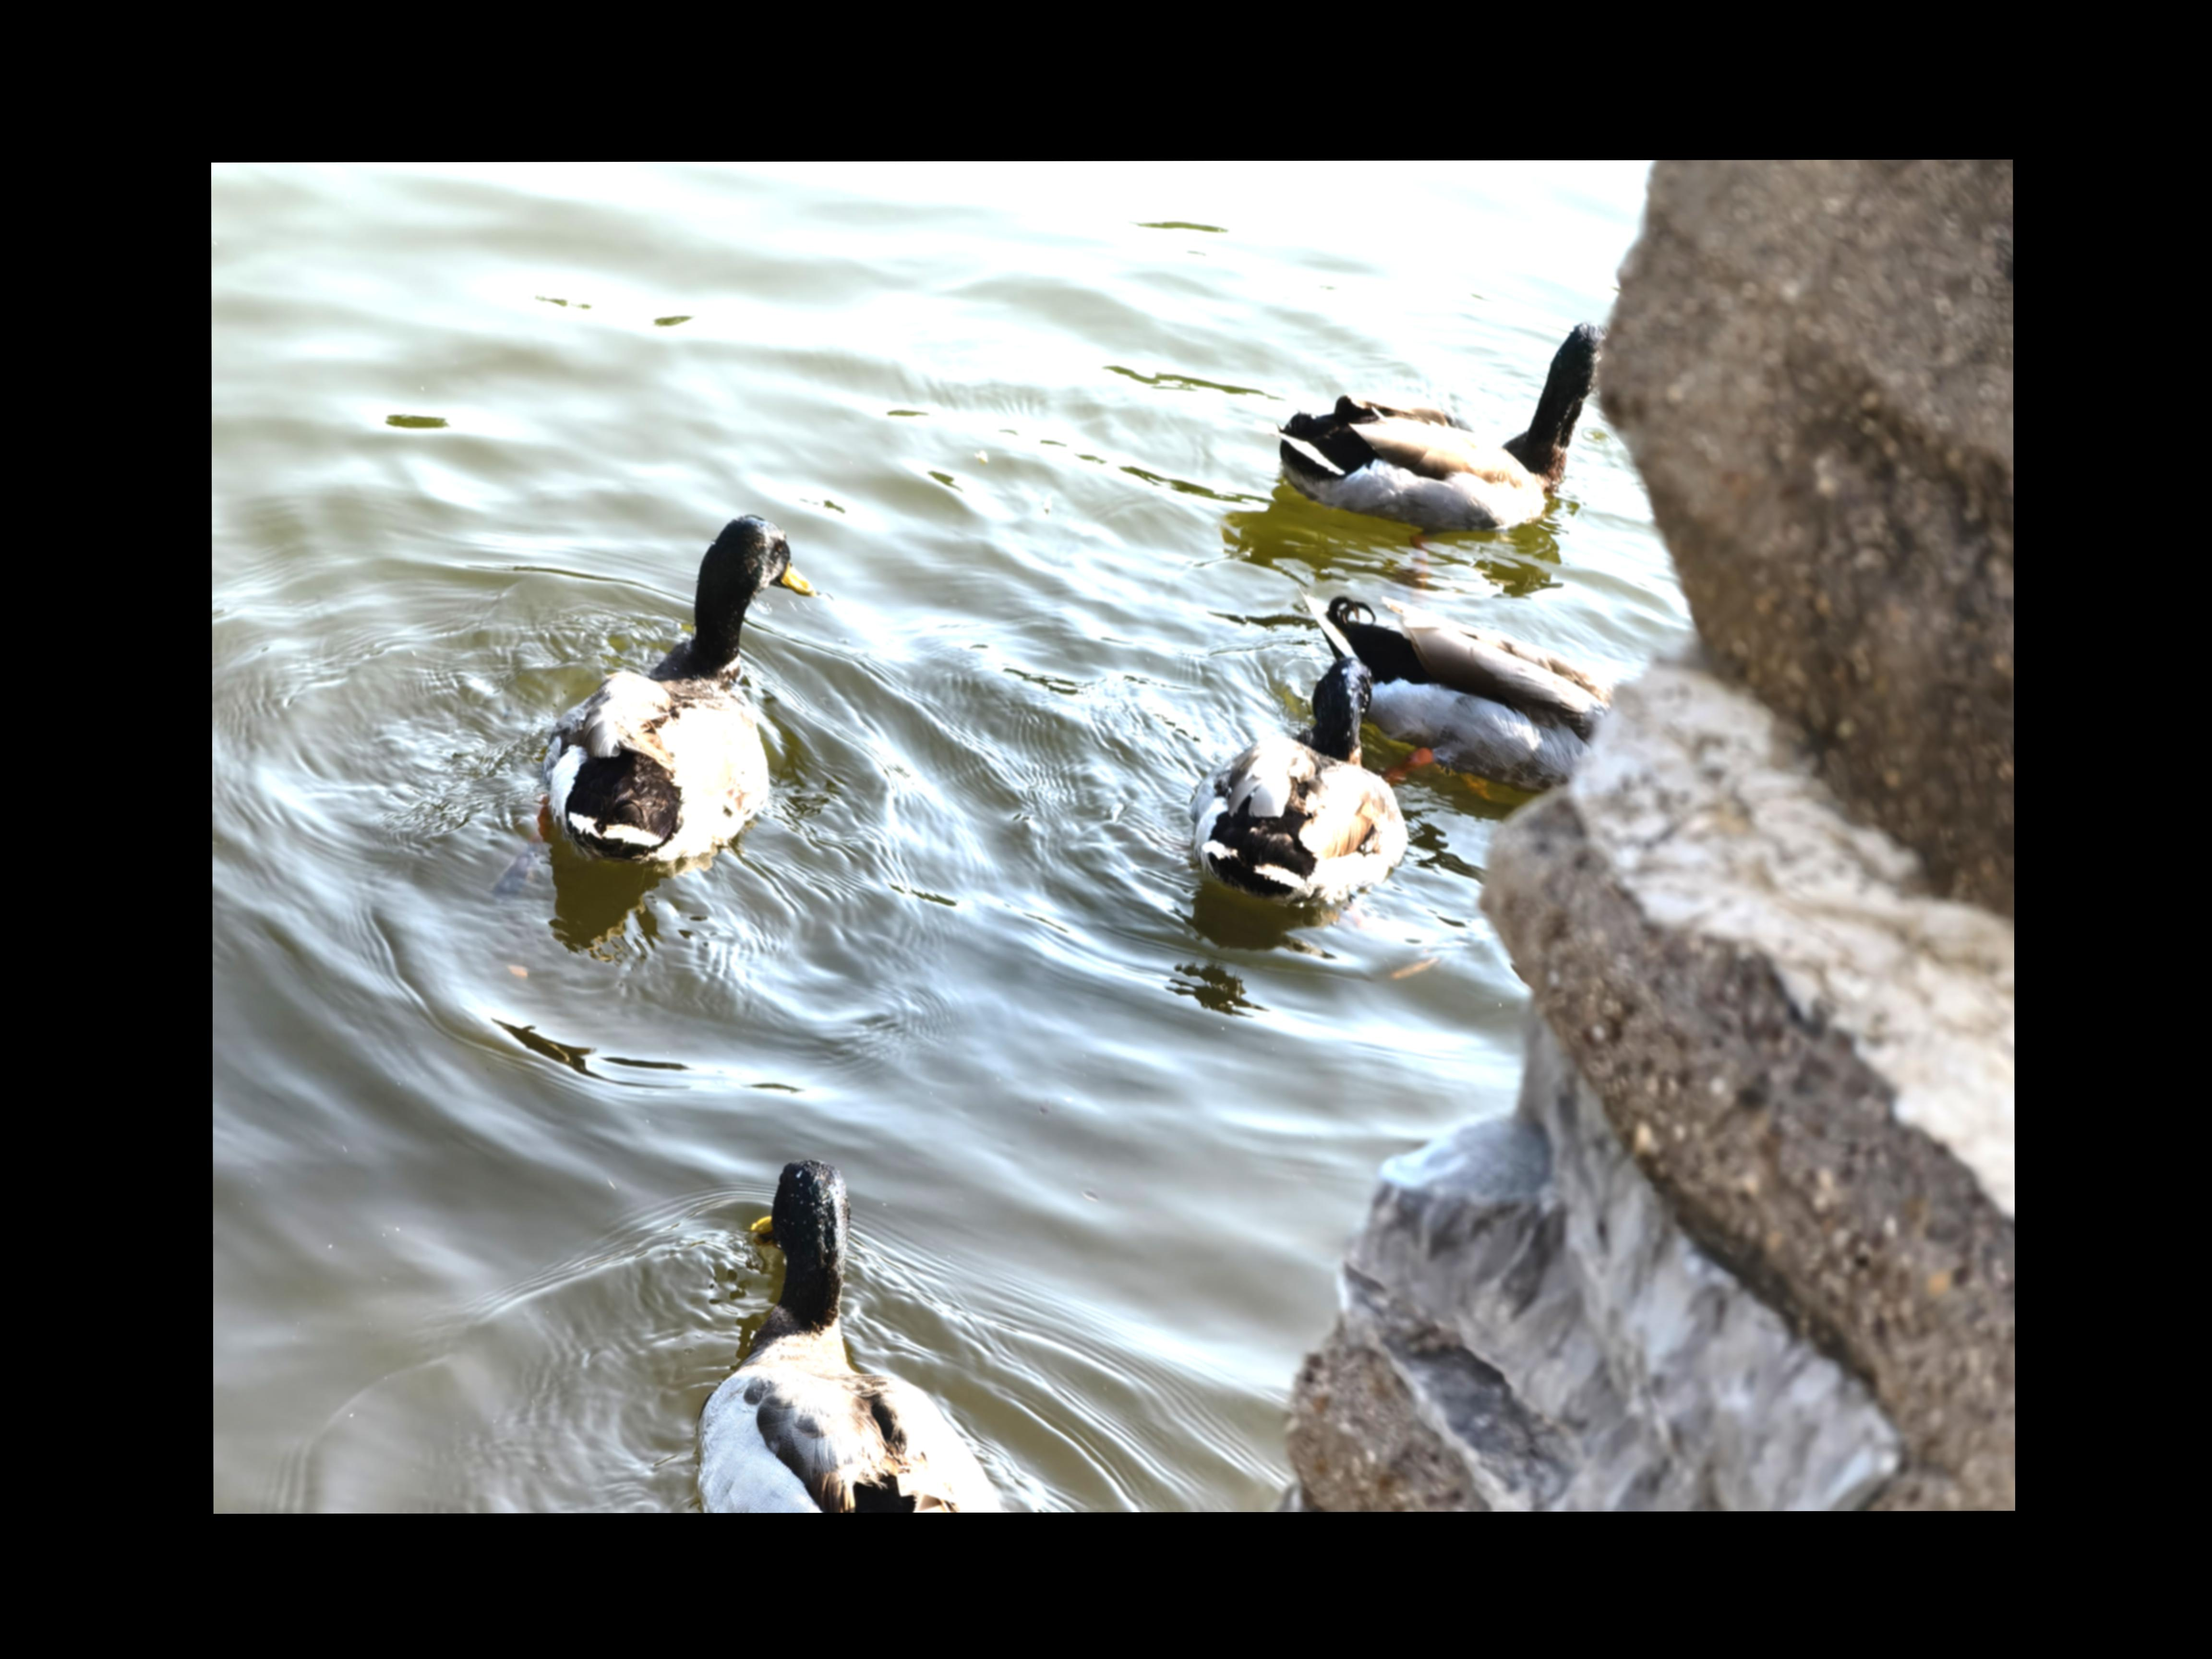duck: (510, 504, 827, 904), (676, 1143, 1010, 1506), (1238, 321, 1618, 525), (1289, 573, 1622, 774), (1181, 648, 1393, 906)
